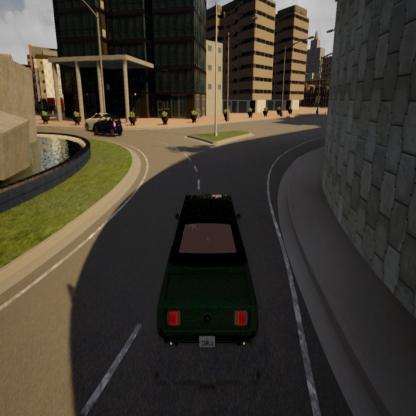Cars: (150, 187, 264, 359), (79, 106, 119, 136), (91, 112, 124, 141)
